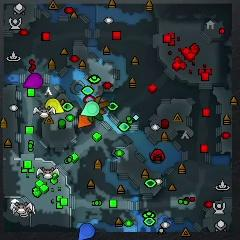p1: (79, 222, 95, 240)
p2: (80, 100, 100, 116)
p3: (23, 72, 43, 88)
p4: (46, 98, 65, 113)
p5: (78, 114, 92, 129)
x4: (88, 113, 103, 121)
x5: (94, 97, 109, 114)
